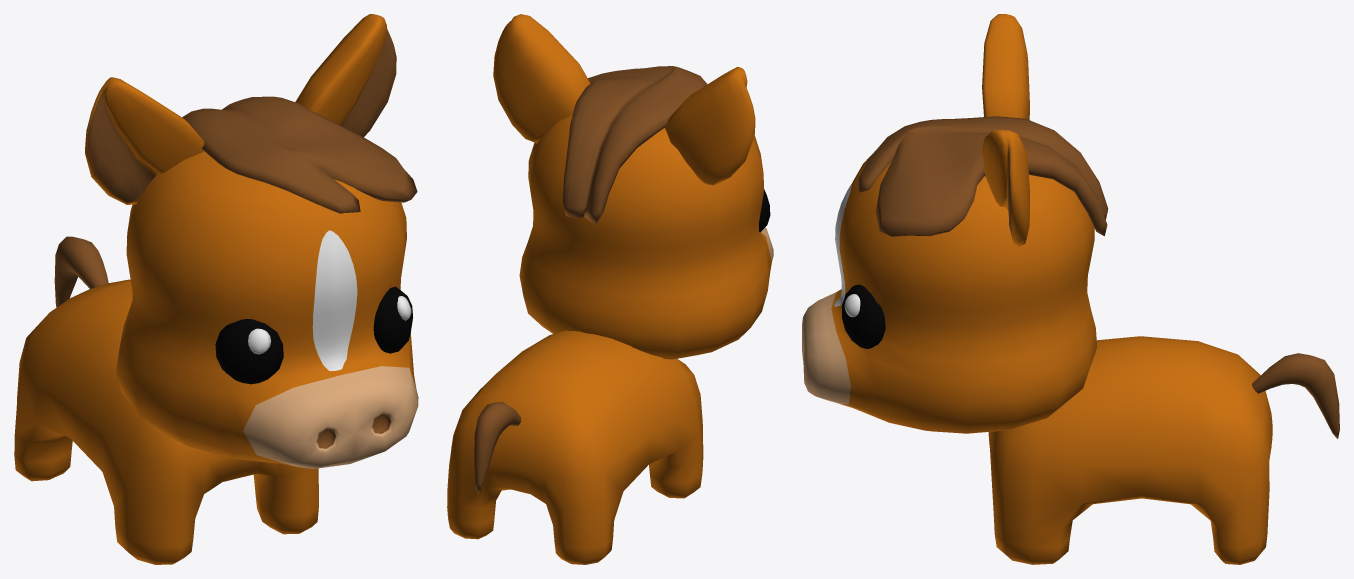
File: horse.fbx
3 renders of one model, left to right at view 1: azimuth 30°, elevation 25°; view 2: azimuth 150°, elevation 25°; view 3: azimuth 270°, elevation 25°, orthographic. The views are drawn at different scales.
Parts seen in each view (by area): view 1: horse_head, horse_body; view 2: horse_head, horse_body; view 3: horse_head, horse_body.
Part boxes in pixels (bbox=[...]): horse_head: bbox=[85, 14, 418, 468]; horse_body: bbox=[14, 236, 318, 564]; horse_head: bbox=[493, 14, 773, 359]; horse_body: bbox=[447, 330, 703, 564]; horse_head: bbox=[802, 14, 1108, 433]; horse_body: bbox=[988, 336, 1339, 564].
Size of the model in its own units: 61.47 by 95.8 by 101.
